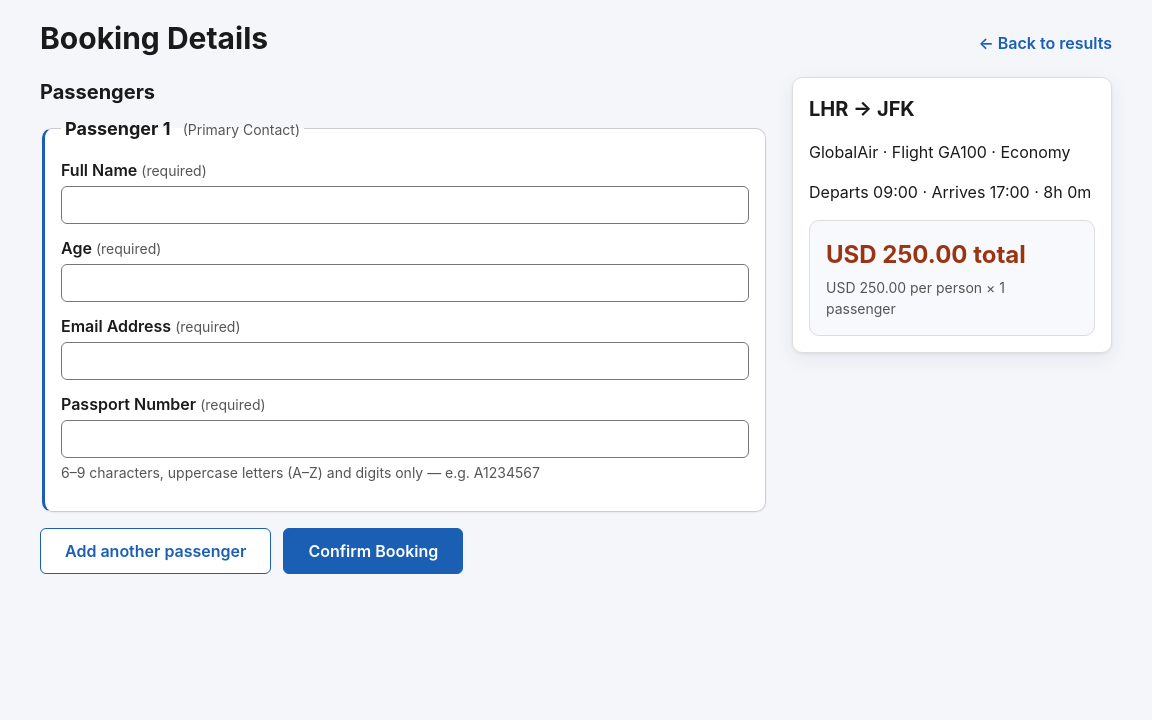
BookingFormComponent › removing the last remaining card keeps the blank passenger-1 form open (minimum-1 by construction)
The image size is (1152, 720).
Type "Passenger 1" into the field with id "fullName-0" at (405, 205), box [61,186,749,224]
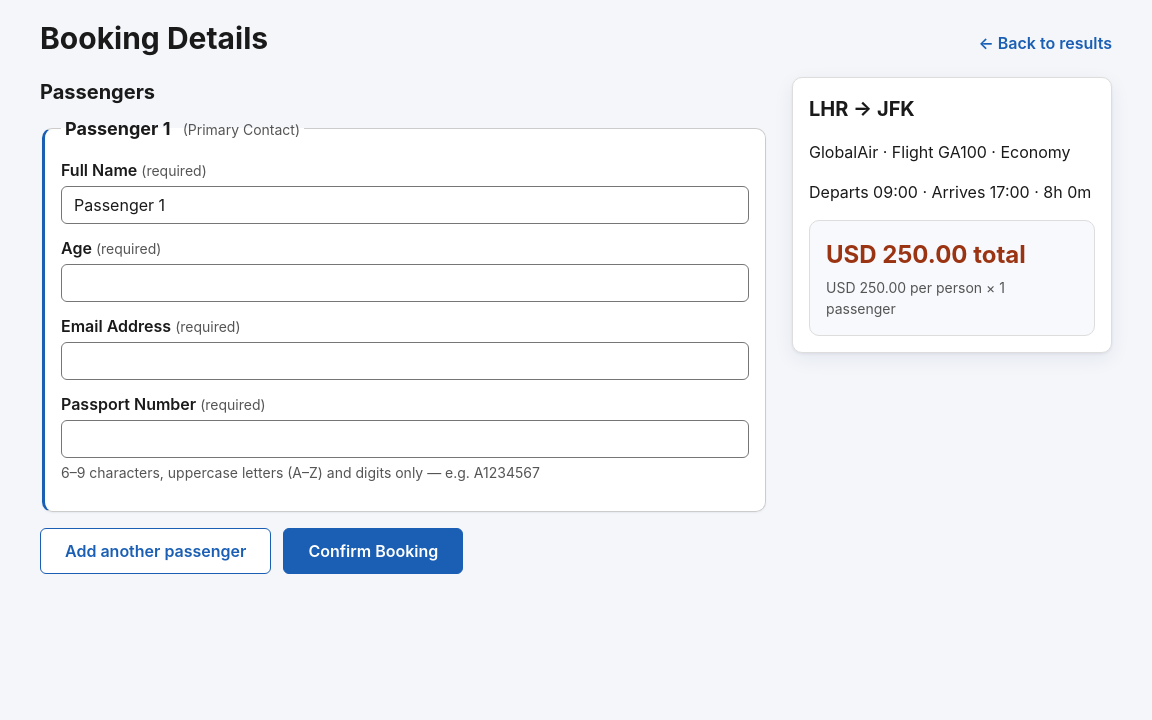
Type "31" into the number field with id "age-0" at (405, 283), box [61,264,749,302]
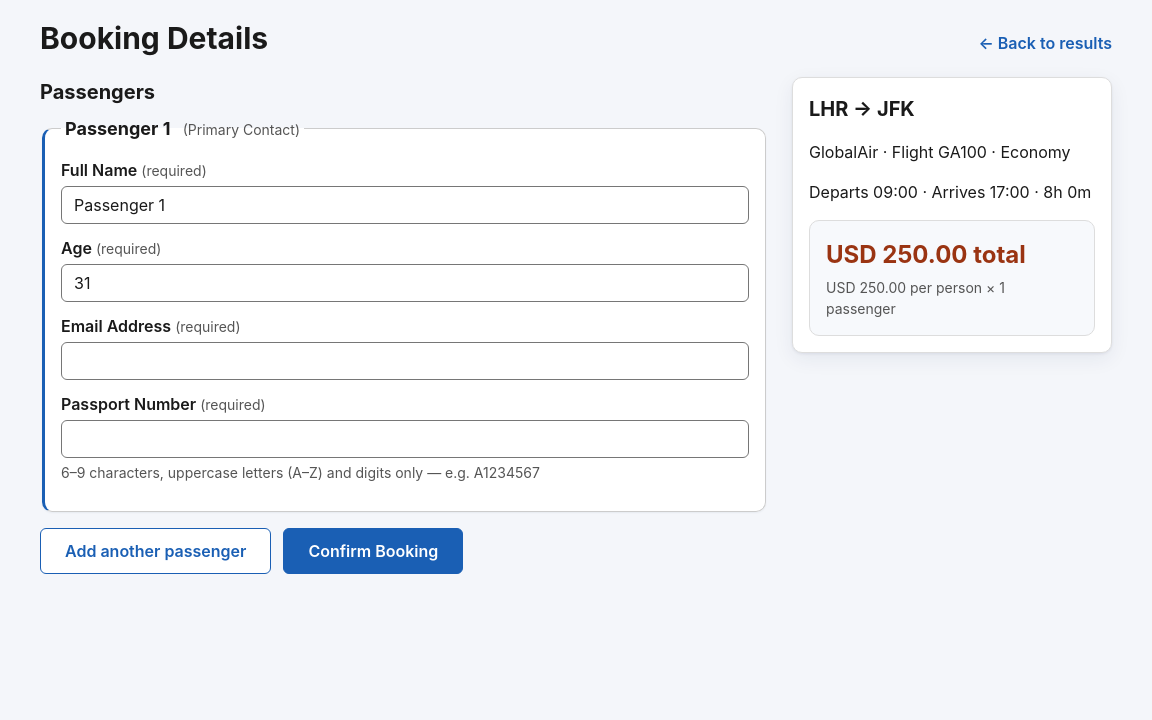
Type "p1@example.com" into the field labelled "Email Address (required)" at (405, 361), box [61,342,749,380]
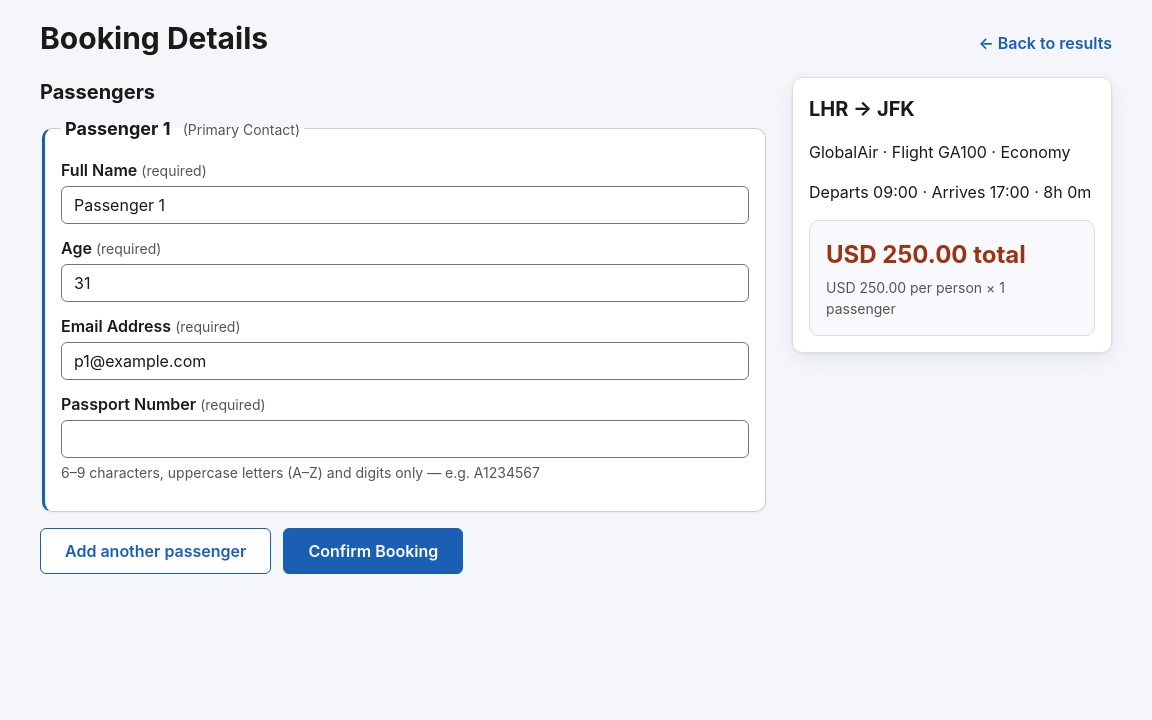
Type "AB123451" into the field with id "documentNumber-0" at (405, 439), box [61,420,749,458]
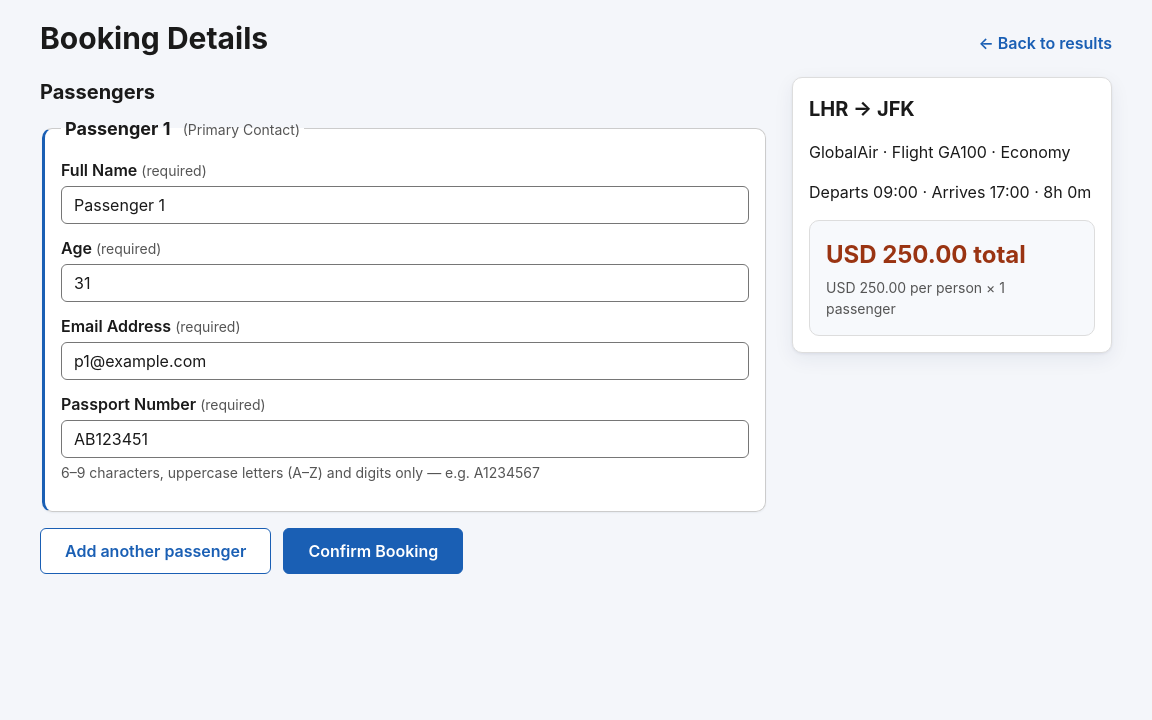
Click the button with id "add-another-btn" at (156, 551), box [40,528,271,574]
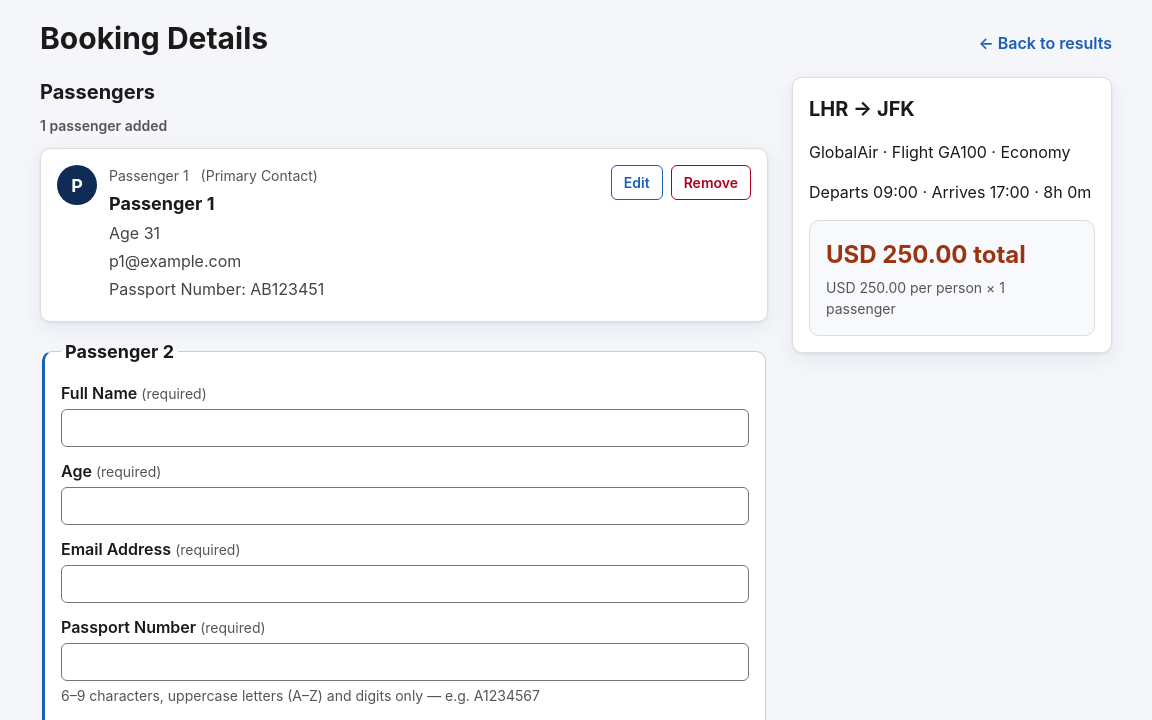
Click the button with id "card-remove-0" at (711, 182), box [671,165,751,200]
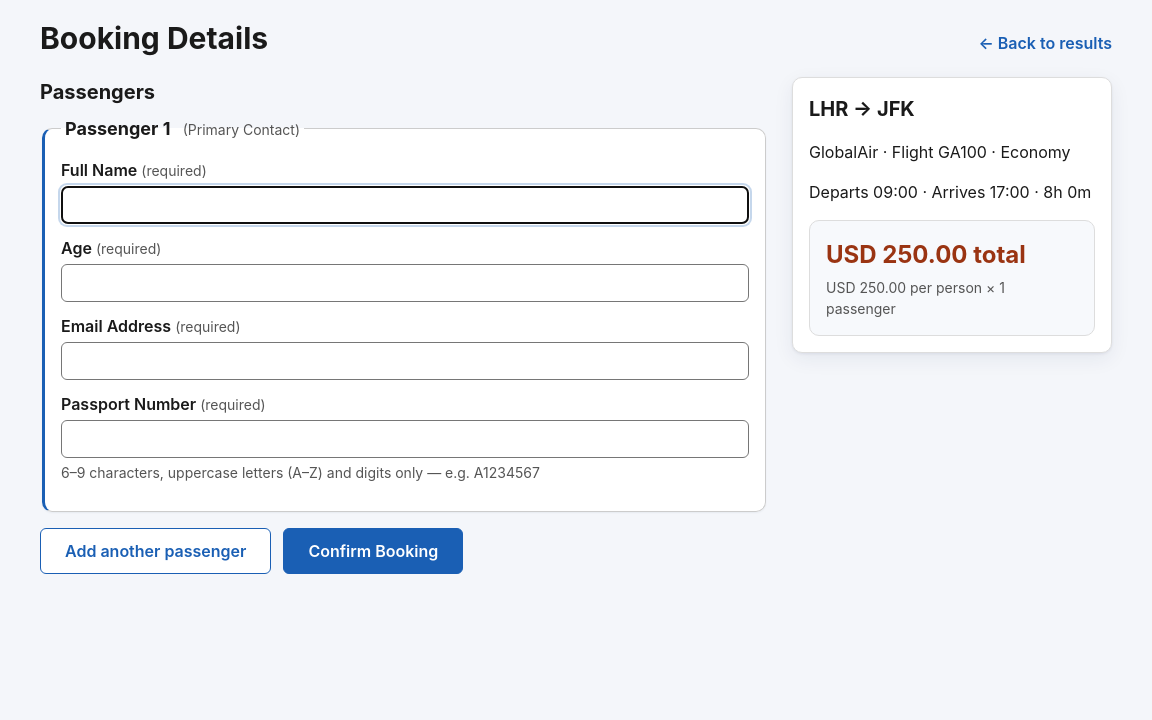
Expected: the field with id "fullName-0" is shown, [61,186,749,224]
Expected: the element showing "Passenger 1 (Primary Contact)" is shown, [61,115,304,142]
